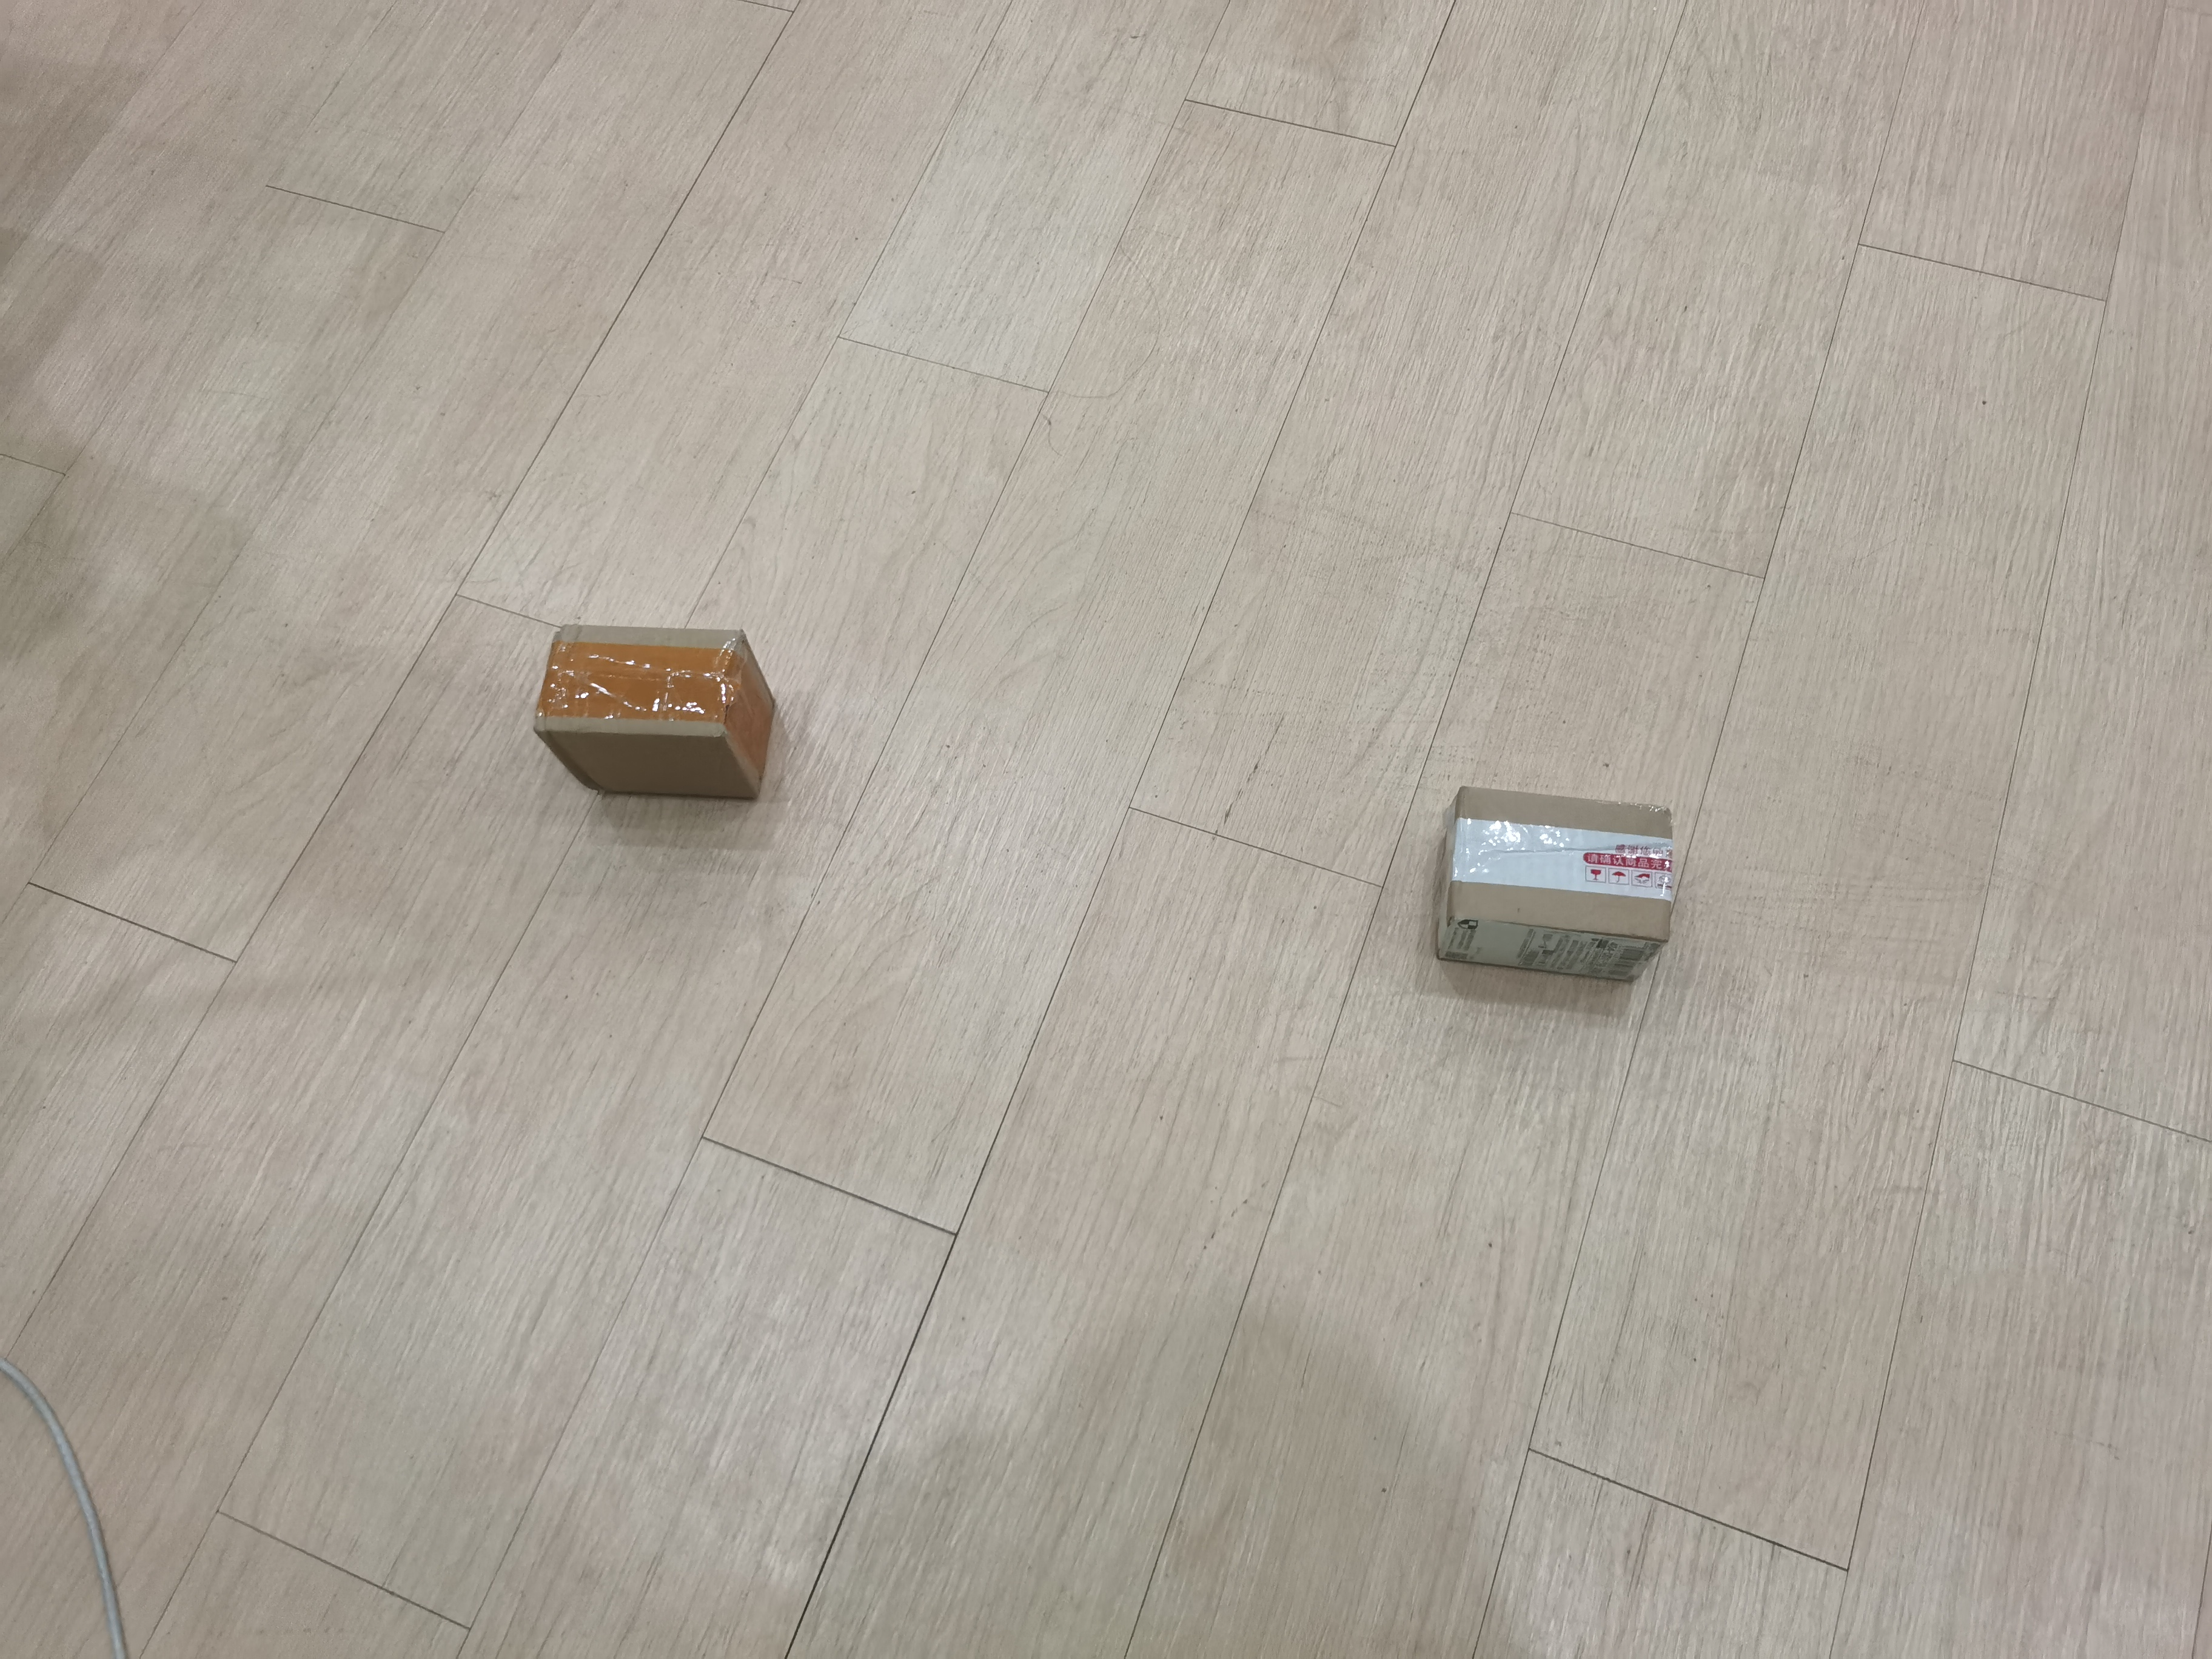box: (524, 613, 794, 823), (1428, 777, 1679, 990)
